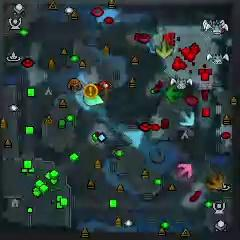p2: (83, 92, 104, 107)
x1: (178, 164, 194, 180)
x2: (155, 42, 175, 59)
x3: (179, 111, 196, 128)
x4: (166, 86, 187, 102)
x5: (208, 172, 224, 190)
